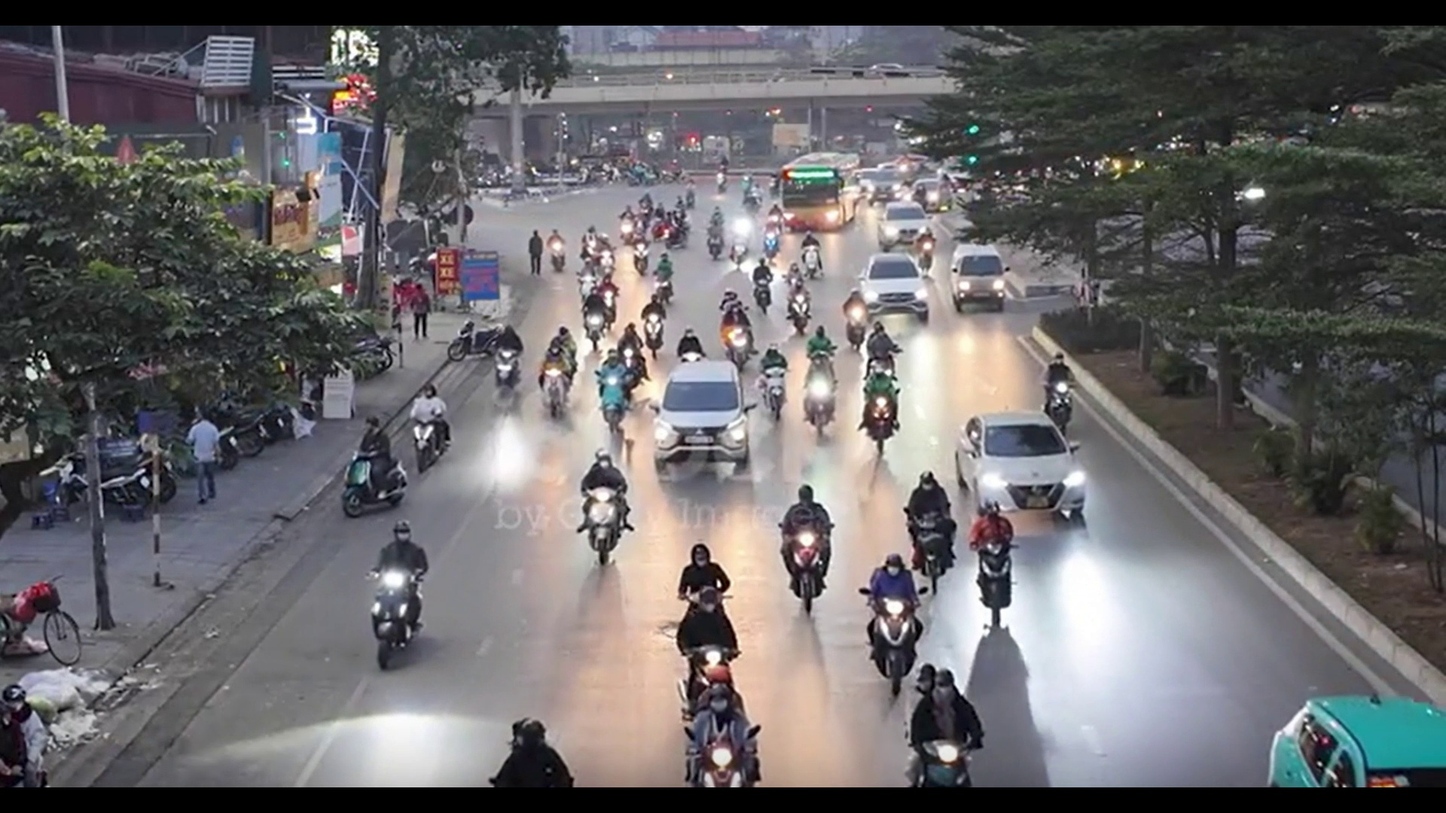bus: (779, 157, 850, 234)
car: (1266, 692, 1445, 787), (956, 411, 1086, 521), (656, 362, 751, 464), (855, 253, 930, 320), (340, 451, 409, 519), (947, 244, 1009, 315)
motorcycle: (0, 578, 83, 668), (867, 603, 925, 701), (370, 576, 422, 672), (574, 489, 635, 568), (781, 533, 829, 615), (409, 395, 451, 472), (861, 382, 900, 444)
